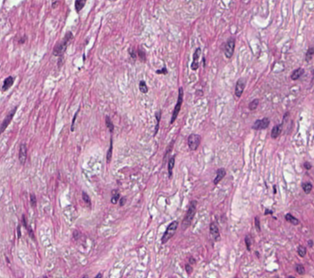nucleus: (53, 32, 72, 55), (170, 87, 182, 123), (0, 107, 16, 132), (182, 201, 195, 228), (161, 221, 177, 242), (224, 37, 234, 58), (252, 117, 269, 129), (191, 48, 200, 70), (187, 134, 200, 149), (213, 168, 225, 184), (2, 76, 14, 91), (209, 222, 219, 240), (18, 143, 26, 164), (235, 79, 244, 97), (167, 155, 174, 177), (154, 110, 160, 135), (106, 137, 112, 162), (71, 109, 78, 130), (271, 124, 282, 137), (105, 116, 113, 133), (74, 0, 85, 11), (82, 192, 90, 207), (248, 99, 258, 110), (139, 80, 147, 93), (111, 190, 119, 203), (255, 216, 260, 231), (245, 235, 250, 250), (30, 193, 35, 206), (156, 68, 166, 73), (52, 1, 58, 7), (20, 36, 25, 42), (17, 227, 20, 236), (273, 185, 276, 193), (265, 210, 271, 214)
